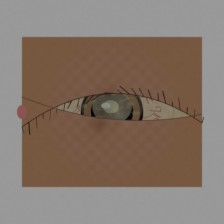corneal_ulcer: (80, 81, 144, 133)
